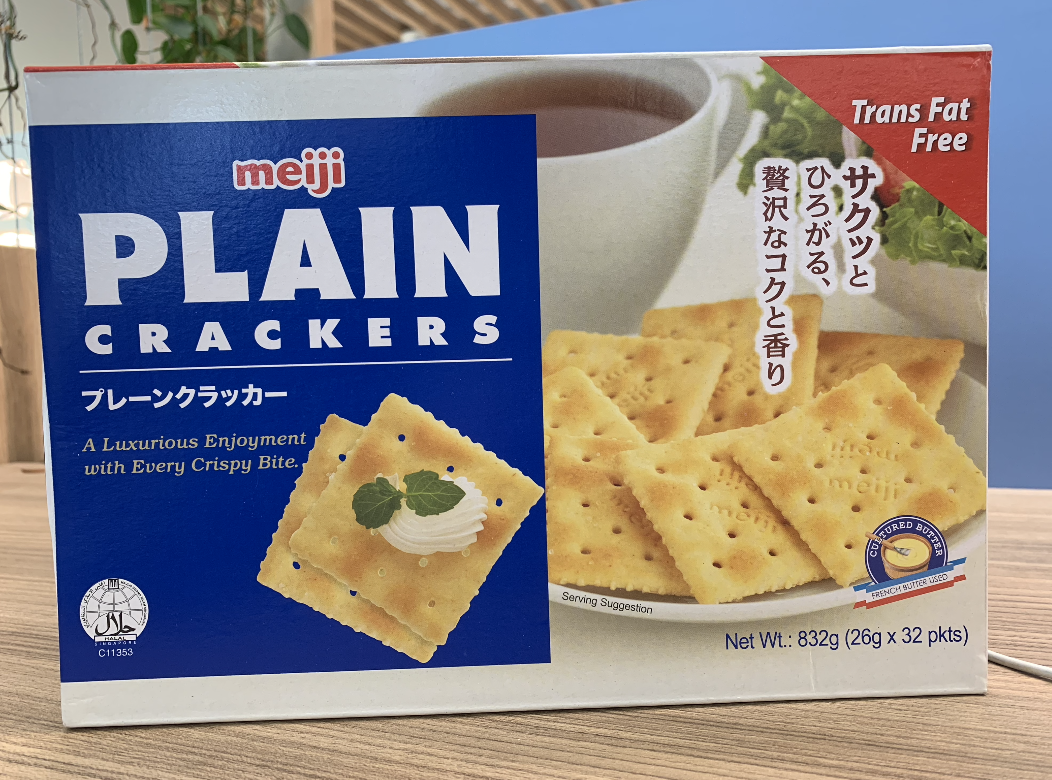crackers_550g: (59, 97, 975, 656)
